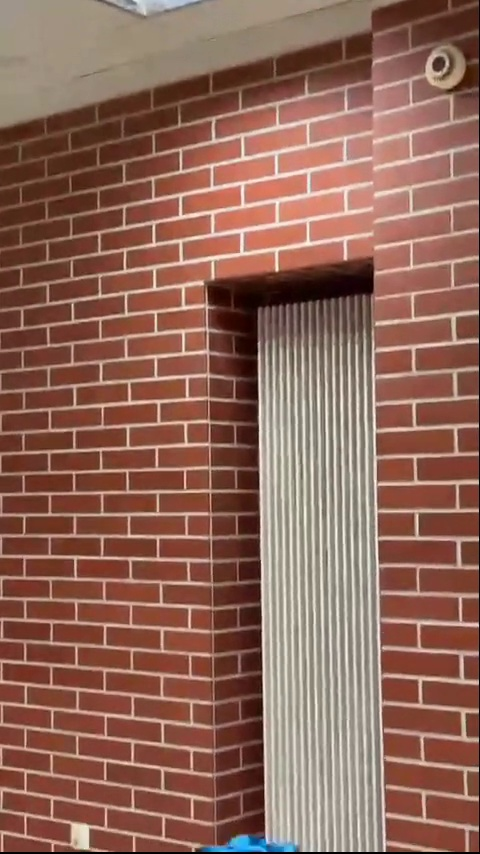drone: (194, 834, 301, 854)
